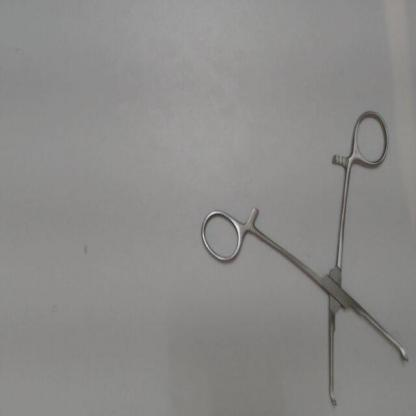Allis Tissue Forceps: (192, 105, 413, 412)
